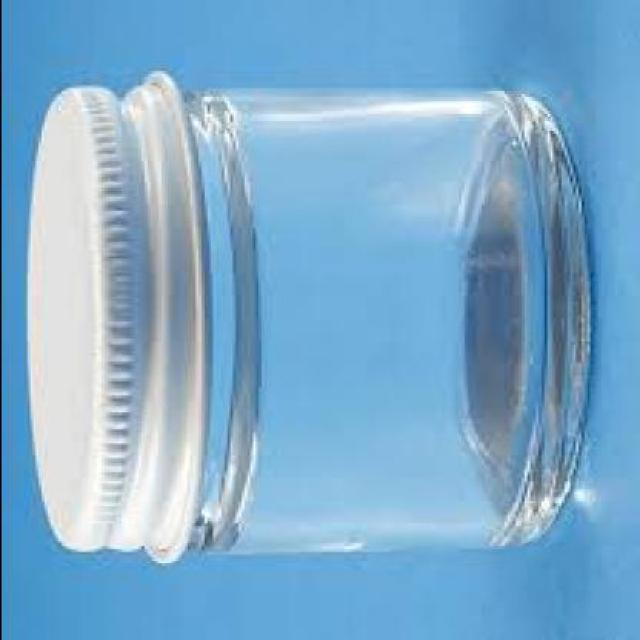GLASS: (183, 85, 586, 549)
METAL: (23, 65, 208, 561)
